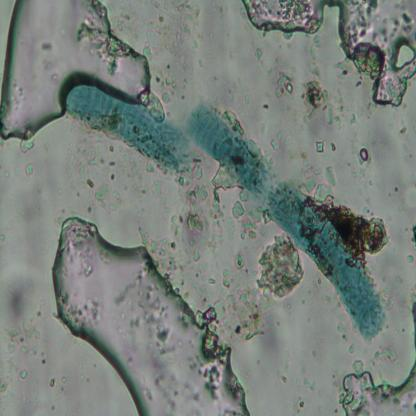Air bubble: (52, 215, 254, 415), (0, 0, 153, 132), (241, 0, 415, 107), (340, 356, 416, 415), (360, 148, 369, 162)
Background material: (198, 287, 264, 347), (0, 319, 48, 391), (258, 228, 305, 298), (0, 170, 55, 223), (332, 208, 389, 256), (163, 0, 203, 68), (184, 176, 224, 240), (2, 264, 32, 333), (305, 80, 346, 126), (298, 160, 340, 204), (138, 224, 178, 268), (201, 68, 240, 106), (263, 314, 287, 365), (235, 200, 260, 241), (344, 159, 370, 195), (119, 150, 154, 175), (271, 58, 294, 96), (96, 183, 125, 213), (77, 145, 96, 190), (153, 72, 178, 104), (140, 27, 160, 58), (399, 182, 416, 214), (270, 132, 294, 152), (150, 177, 167, 201), (347, 113, 368, 132), (296, 374, 316, 393), (373, 345, 397, 360), (310, 34, 322, 59), (333, 313, 346, 336), (22, 134, 36, 152), (234, 252, 247, 271), (252, 42, 264, 62), (294, 395, 305, 414), (409, 224, 416, 252), (24, 162, 35, 179), (354, 357, 364, 374), (278, 366, 290, 380), (191, 247, 201, 262), (346, 338, 354, 354), (405, 253, 415, 265)
Natural material: (186, 89, 389, 339), (64, 74, 196, 174)
Salt: (314, 140, 325, 154)
